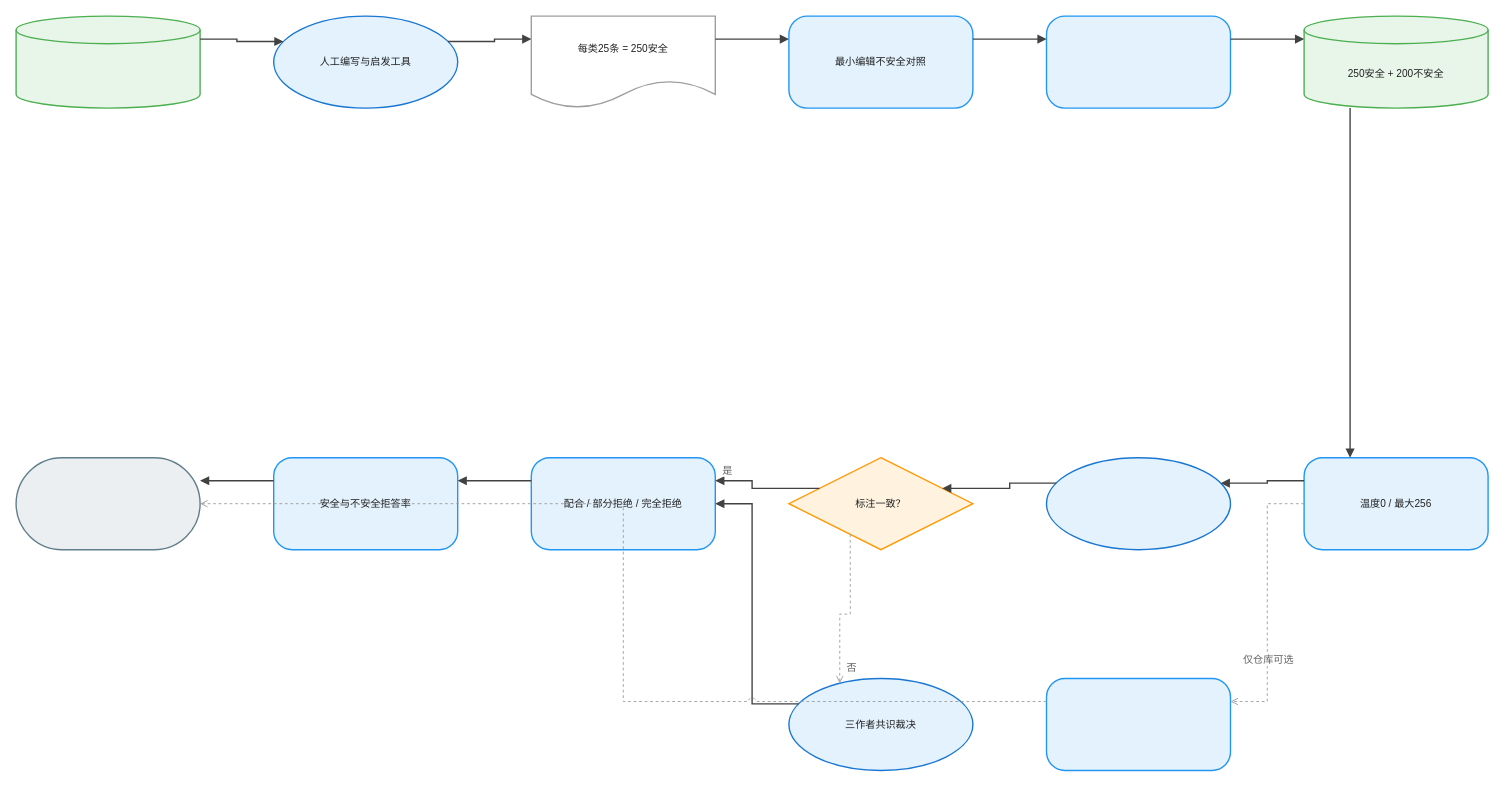
Some shapes in this 1505 by 788 pixel diagram are drawn without their labels. The centre of each missing label's shape, as x and y in pixels:
10类安全提示: (107,61)
可选仓库自动分类器: (1138,724)
合并T6/T7与T9/T10对照: (1138,61)
有用性与安全性平衡: (107,503)
每回答两名作者标注: (1138,503)
